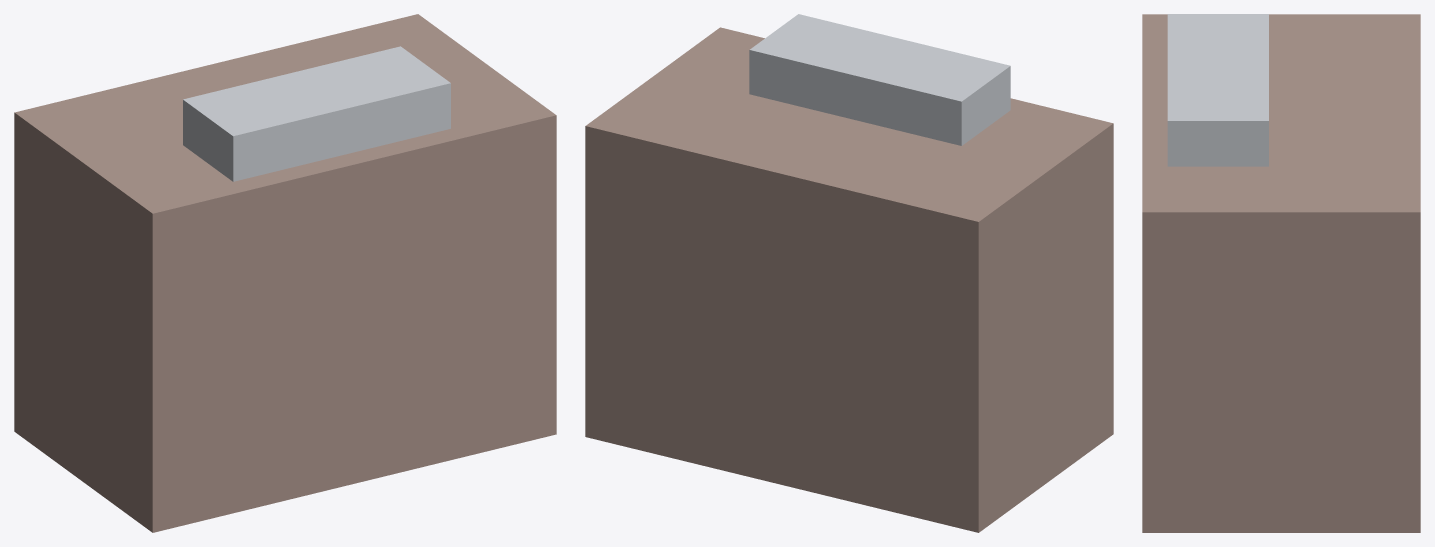
File: prop.glb
3 views of the same model, side by side, from view 1: azimuth 30°, elevation 25°; view 2: azimuth 150°, elevation 25°; view 3: azimuth 270°, elevation 25° (orthographic). The views are drawn at different scales.
Parts seen in each view (by area): view 1: Cloth, Metal; view 2: Cloth, Metal; view 3: Cloth, Metal.
Part boxes in pixels (x1,y1,x2,y2): Cloth: [14, 14, 556, 532]; Metal: [183, 46, 450, 181]; Cloth: [585, 27, 1113, 532]; Metal: [749, 14, 1010, 145]; Cloth: [1142, 14, 1420, 532]; Metal: [1167, 14, 1268, 166].
Size of the model in its own units: 0.3706 by 0.32 by 0.22.
